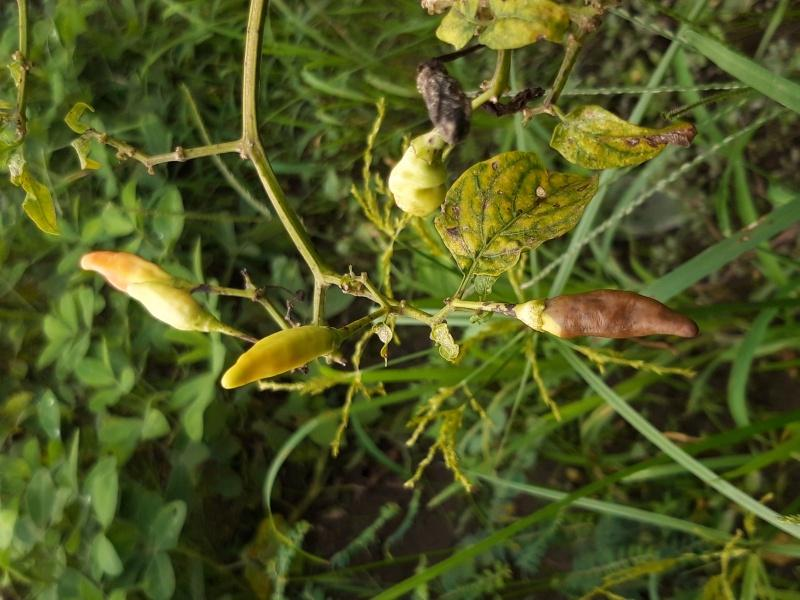antraknosa: (416, 67, 471, 141)
cabai_normal: (80, 250, 209, 330), (220, 325, 332, 390), (389, 148, 446, 214)
lalat_buah: (533, 288, 698, 338)
